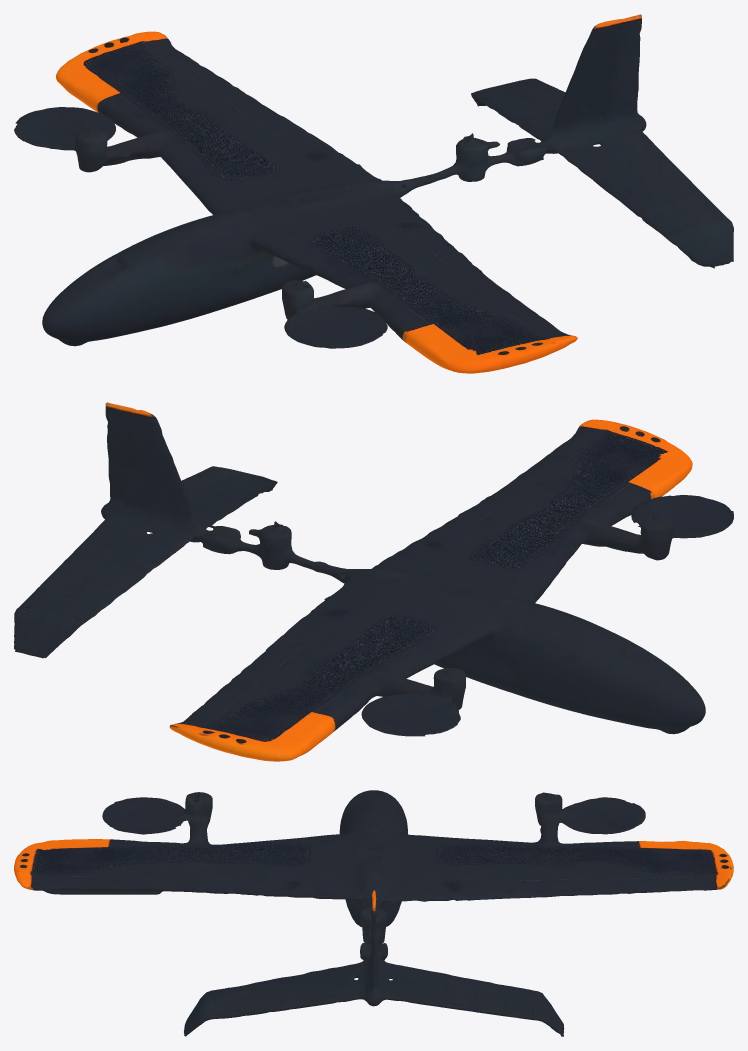
The model's file is hornet_textured.min.glb.
3 views of the same model, one above another, from view 1: azimuth 30°, elevation 25°; view 2: azimuth 150°, elevation 25°; view 3: azimuth 270°, elevation 25° (orthographic). The views are drawn at different scales.
Size of the model in its own units: 1.63 by 0.4999 by 2.
Materials: 1 (1 with a texture image).
